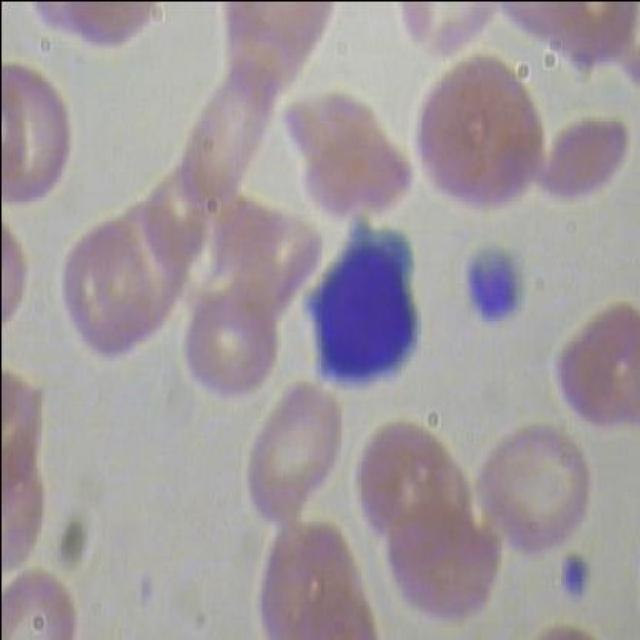Platelets: (458, 228, 536, 328), (553, 541, 592, 602)
RBC: (409, 50, 545, 215), (470, 408, 596, 558), (241, 382, 350, 528), (182, 280, 280, 398), (551, 297, 638, 428), (542, 113, 630, 209)
WBC: (306, 215, 422, 402)
